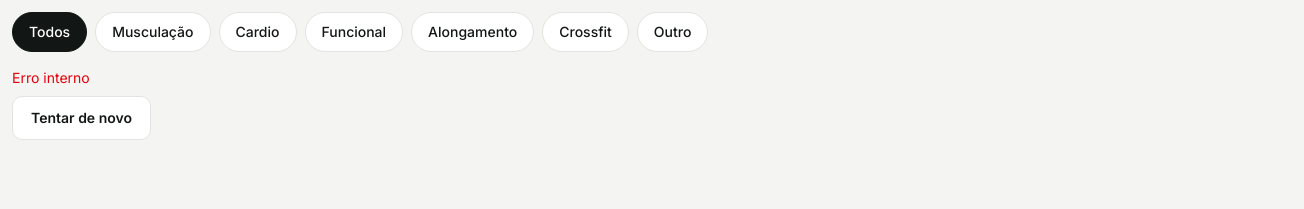
Test: MeusTreinos › busca de novo o mesmo filtro em Tentar de novo
Click the button "Tentar de novo". click: {"x": 82, "y": 118}
box: left=12, top=96, right=151, bottom=140
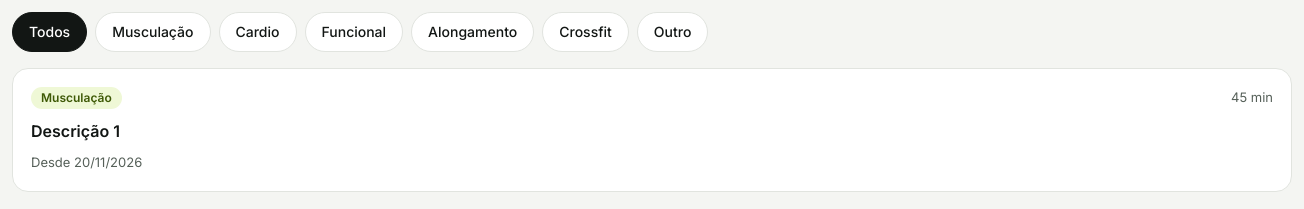
Expected: the text "Descrição 1" is shown, left=31, top=119, right=120, bottom=143
Expected: the message "Erro interno" is gone
